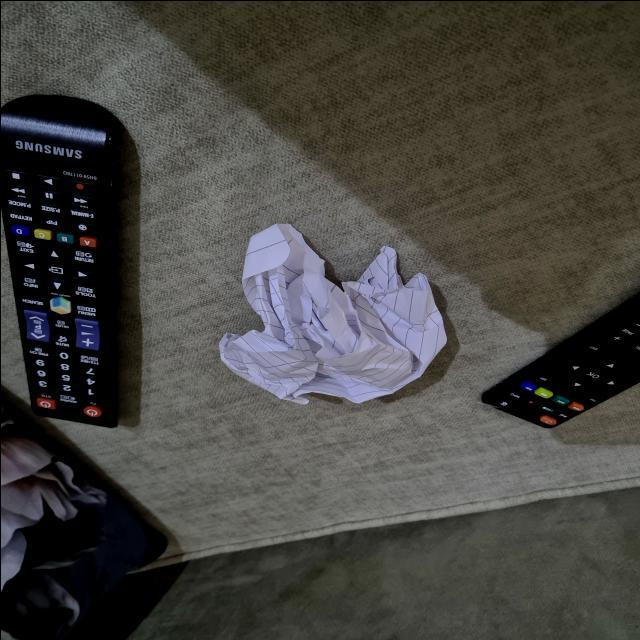Paper: (215, 214, 455, 416)
